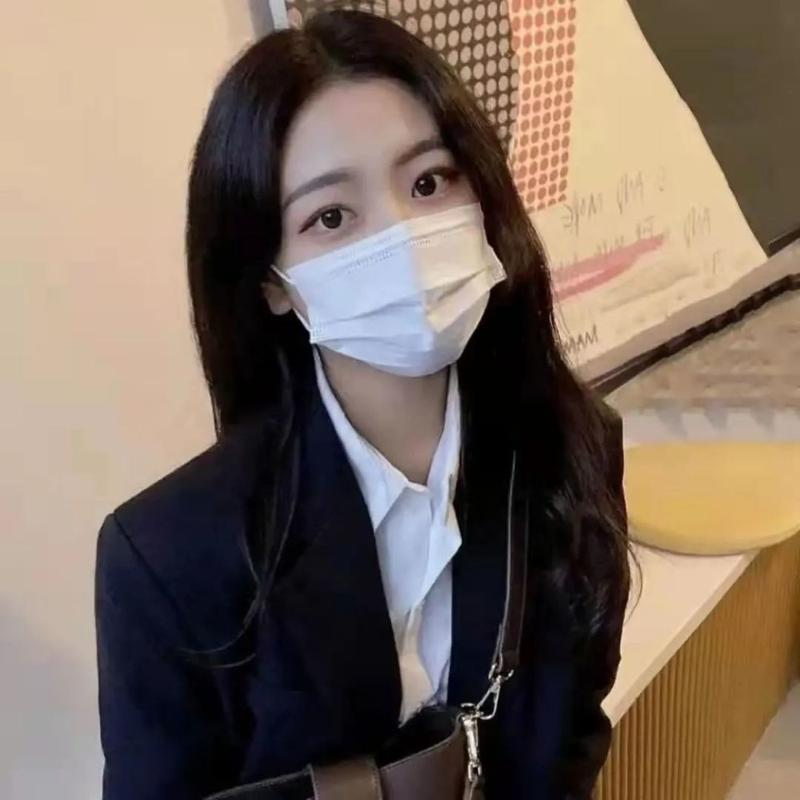mask: (249, 57, 526, 387)
